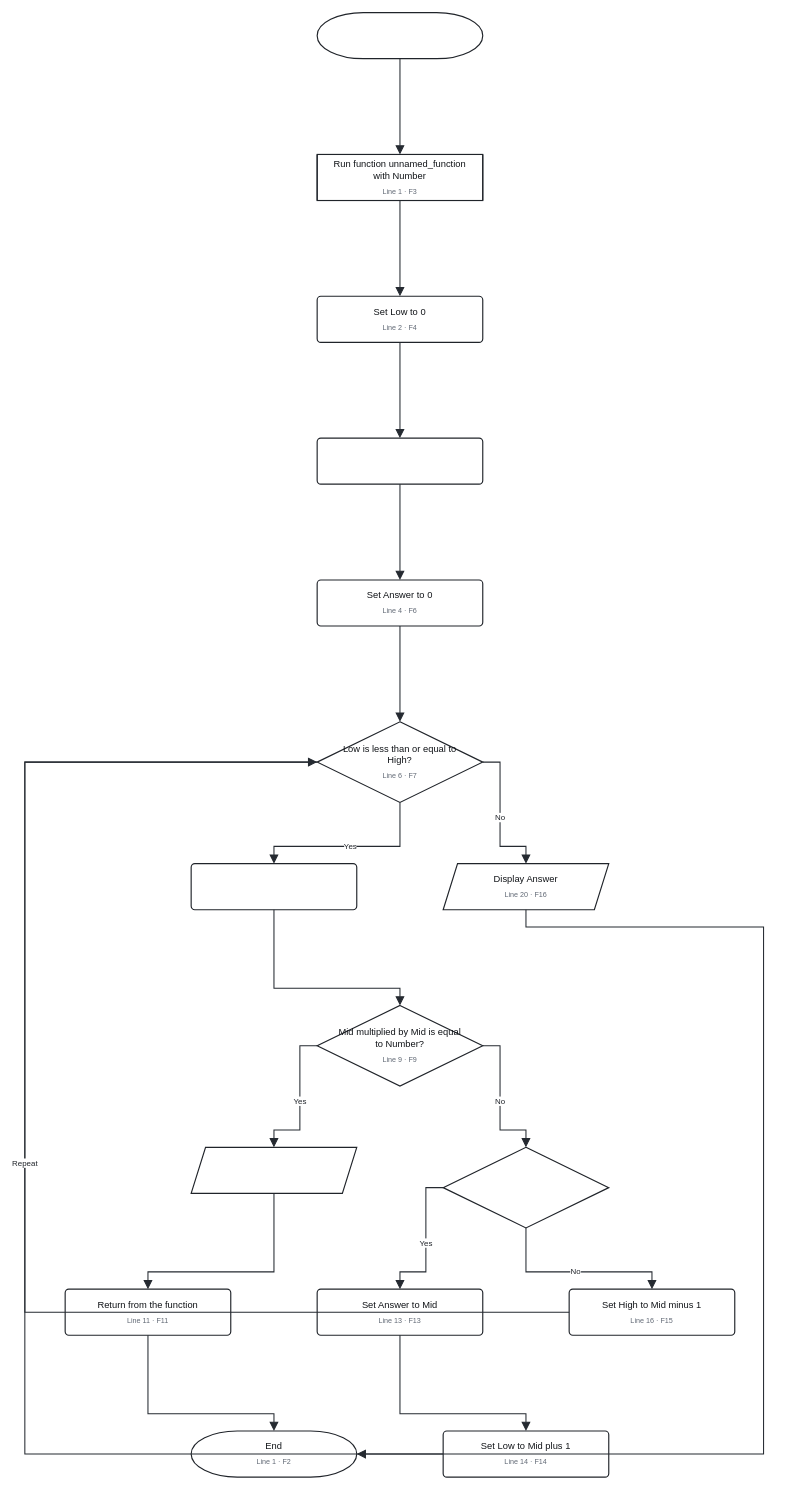
The diagram is 785 pixels wide and 1490 high, and some of its shapes have lost their labels. The box of each missing label's shape, as (x1, y1, x2, y2) in pixels:
Display Mid Line 10 · F10: (190, 1146, 357, 1194)
Mid multiplied by Mid is less than Number? Line 12 · F12: (442, 1146, 609, 1228)
Set High to Number Line 3 · F5: (316, 437, 483, 484)
Set Mid to Low plus High integer-divided by 2 Line 7 · F8: (190, 863, 357, 910)
Start Line 1 · F1: (316, 12, 483, 59)
